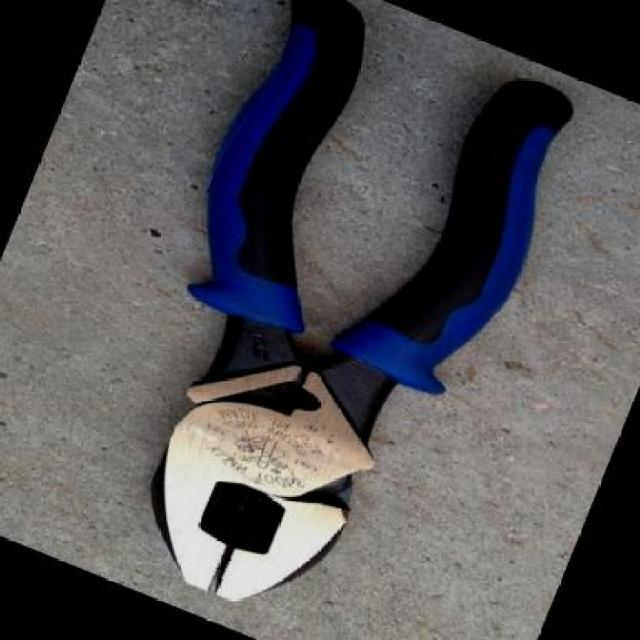pliers: (32, 0, 607, 638)
